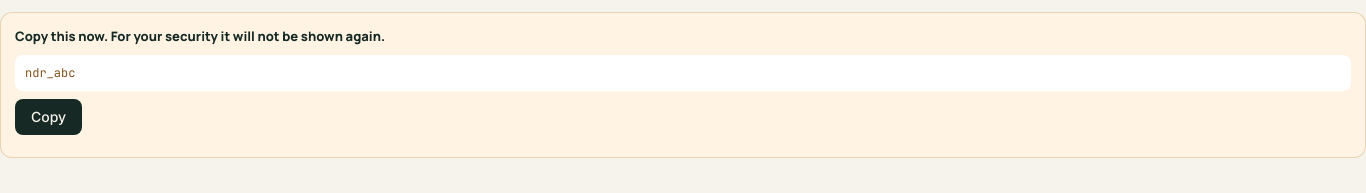
Test: SecretReveal › warns it is shown once and copies the value
Expected: the text "Copy this now. For your security it will not be shown again." is shown, 15,27 -> 385,45
Expected: the text named "Key" reads "ndr_abc", 25,64 -> 75,80
Click the button "Copy". click: (49, 116)
box: 15,98 -> 82,134
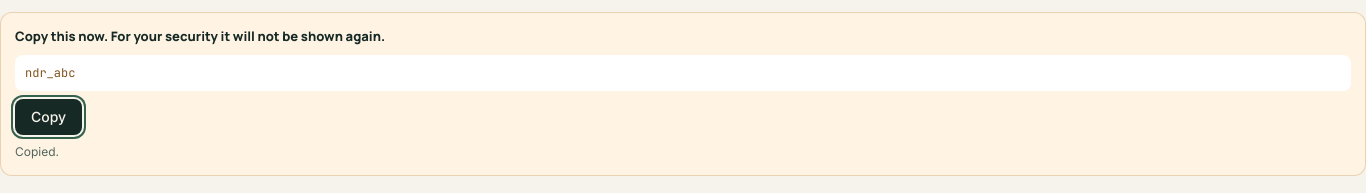
Expected: the text "Copied." is shown, 15,144 -> 59,158
